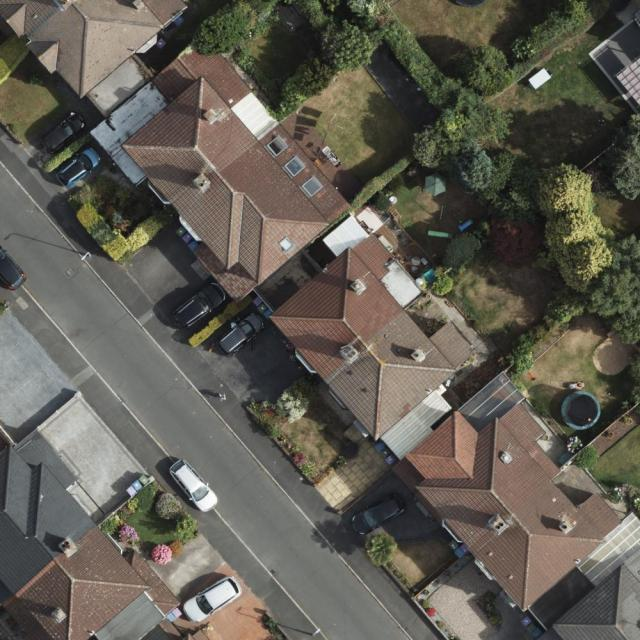roof: (270, 214, 640, 640), (0, 0, 356, 305), (0, 427, 183, 640), (587, 14, 640, 119)
skylight: (458, 371, 528, 435), (282, 155, 308, 177), (267, 132, 290, 156), (301, 176, 322, 196), (274, 234, 295, 252)
